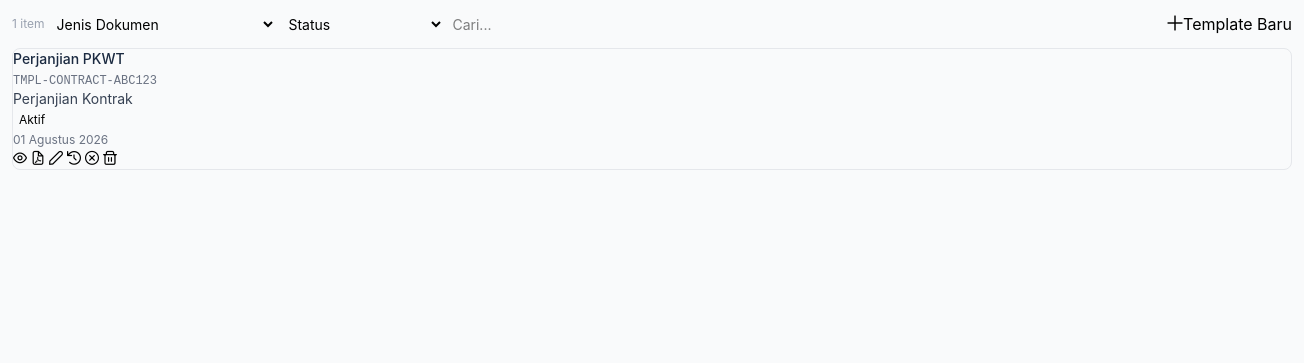
Scenario: DocumentTemplatesView › openVersions menampilkan dialog daftar versi
The image size is (1304, 363).
Click the 5th button: (74, 159) x1=67 y1=149 x2=81 y2=169
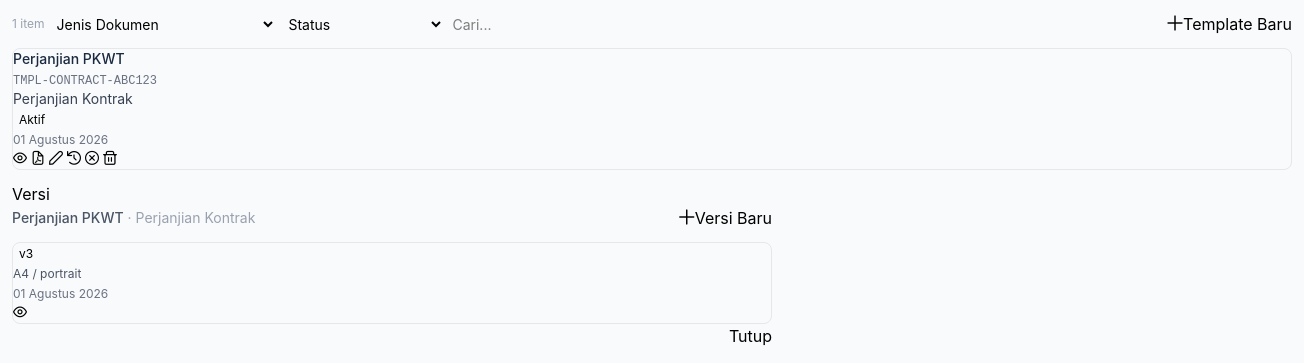
Result: the text "v3" is shown at x1=19 y1=246 x2=33 y2=261
